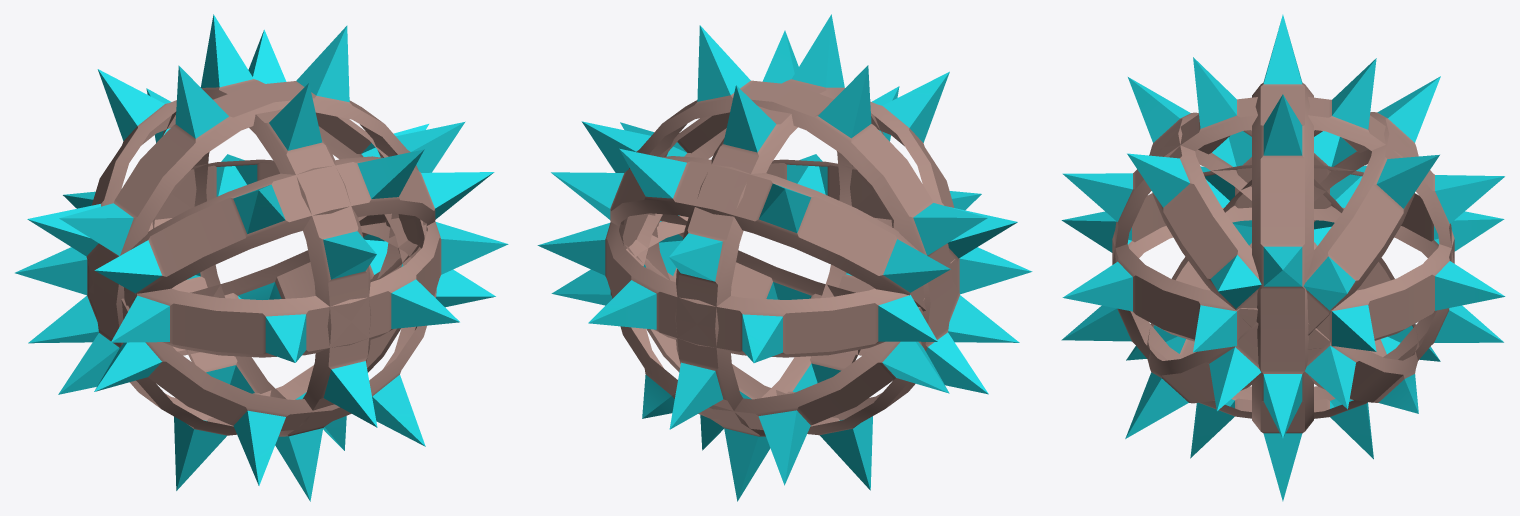
File: DiamondSpikes.fbx
The picture shows the model from 3 angles, left to right: view 1: azimuth 30°, elevation 25°; view 2: azimuth 150°, elevation 25°; view 3: azimuth 270°, elevation 25°; orthographic projection. The views are drawn at different scales.
Visible parts, largest first — view 1: Lv1Iron.002, Lv4Iron.002, Lv2Iron.002, Lv3Iron.002, Lv5Iron.002; view 2: Lv1Iron.002, Lv5Iron.002, Lv2Iron.002, Lv3Iron.002, Lv4Iron.002; view 3: Lv2Iron.002, Lv3Iron.002, Lv5Iron.002, Lv1Iron.002, Lv4Iron.002.
Boxes of the visible parts, x1=… form: Lv1Iron.002: x1=58, y1=25, x2=465, y2=490; Lv4Iron.002: x1=28, y1=149, x2=494, y2=355; Lv2Iron.002: x1=15, y1=154, x2=508, y2=362; Lv3Iron.002: x1=146, y1=14, x2=377, y2=501; Lv5Iron.002: x1=27, y1=29, x2=495, y2=485; Lv1Iron.002: x1=581, y1=25, x2=988, y2=490; Lv5Iron.002: x1=551, y1=148, x2=1019, y2=355; Lv2Iron.002: x1=537, y1=154, x2=1032, y2=362; Lv3Iron.002: x1=669, y1=14, x2=899, y2=501; Lv4Iron.002: x1=551, y1=30, x2=1017, y2=485; Lv2Iron.002: x1=1061, y1=165, x2=1505, y2=352; Lv3Iron.002: x1=1061, y1=57, x2=1504, y2=459; Lv5Iron.002: x1=1125, y1=76, x2=1440, y2=438; Lv1Iron.002: x1=1252, y1=14, x2=1313, y2=501; Lv4Iron.002: x1=1127, y1=77, x2=1440, y2=413.
Bounding box in the file's own units: 1479 × 1479 × 1453.
